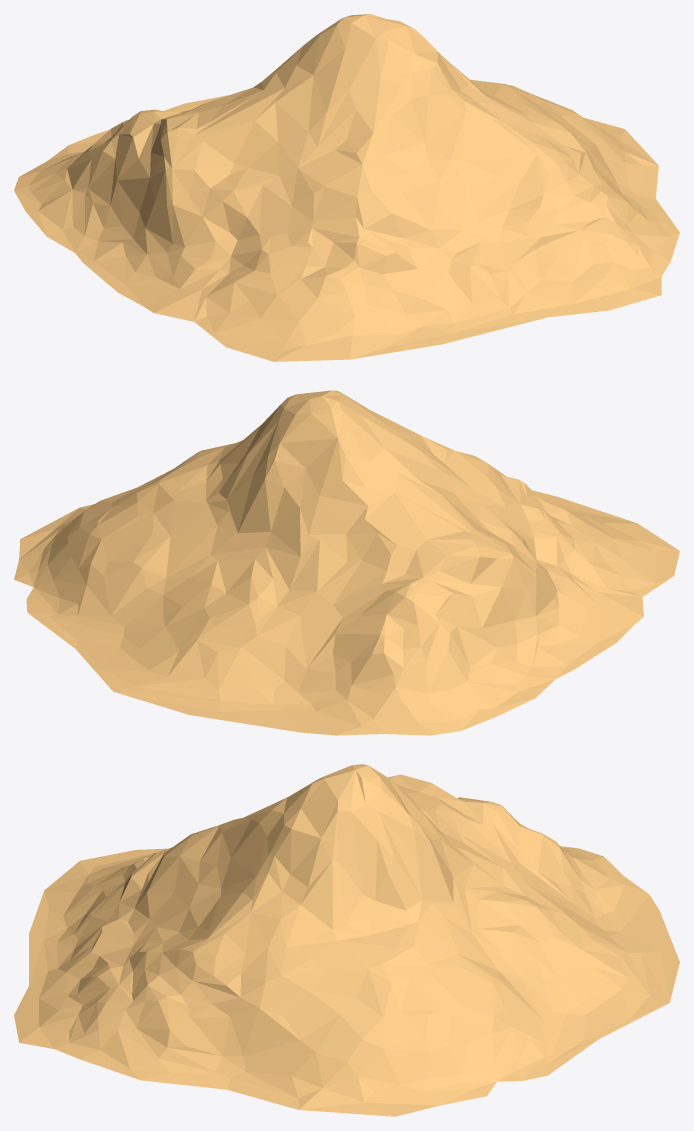
File: Terrain 04.FBX
3 views of the same model, one above another, from view 1: azimuth 30°, elevation 25°; view 2: azimuth 150°, elevation 25°; view 3: azimuth 270°, elevation 25° (orthographic). The views are drawn at different scales.
Parts seen in each view (by area): view 1: plane; view 2: plane; view 3: plane.
Part boxes in pixels (<box>): plane: <box>14,14,679,361</box>; plane: <box>14,390,679,735</box>; plane: <box>14,764,679,1116</box>.
Bounding box in the file's own units: 96.01 × 32.8 × 96.71.
